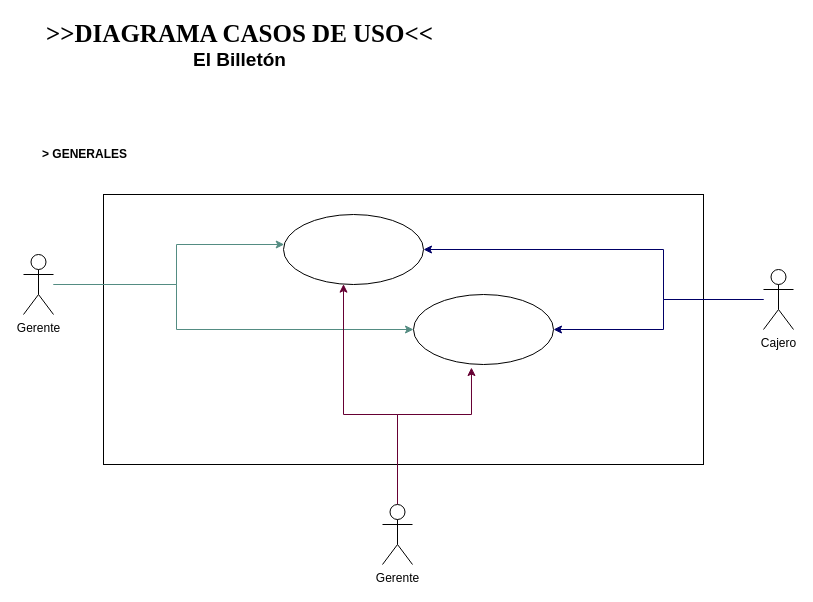
This 813x602 diagram has some shape labels left out. The box of each missing label's shape, as (x1, y1, x2, y2) in pixels:
Entrar a pagina persoanal del portal: (412, 294, 554, 364)
Ver Perfil: (282, 214, 424, 284)
